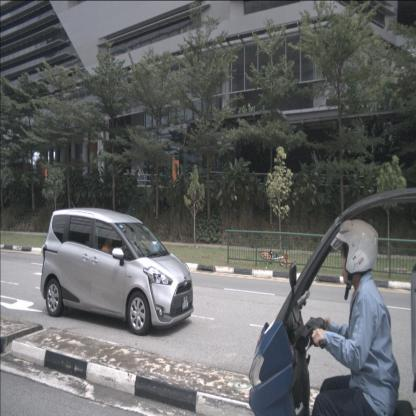human-pedestrian-adult: (136, 162, 142, 186), (142, 164, 147, 188), (131, 164, 136, 186)
vehicle-bicycle: (260, 245, 290, 270)
vehicle-car: (40, 207, 194, 334)
vehicle-motorcycle: (249, 186, 416, 416)
